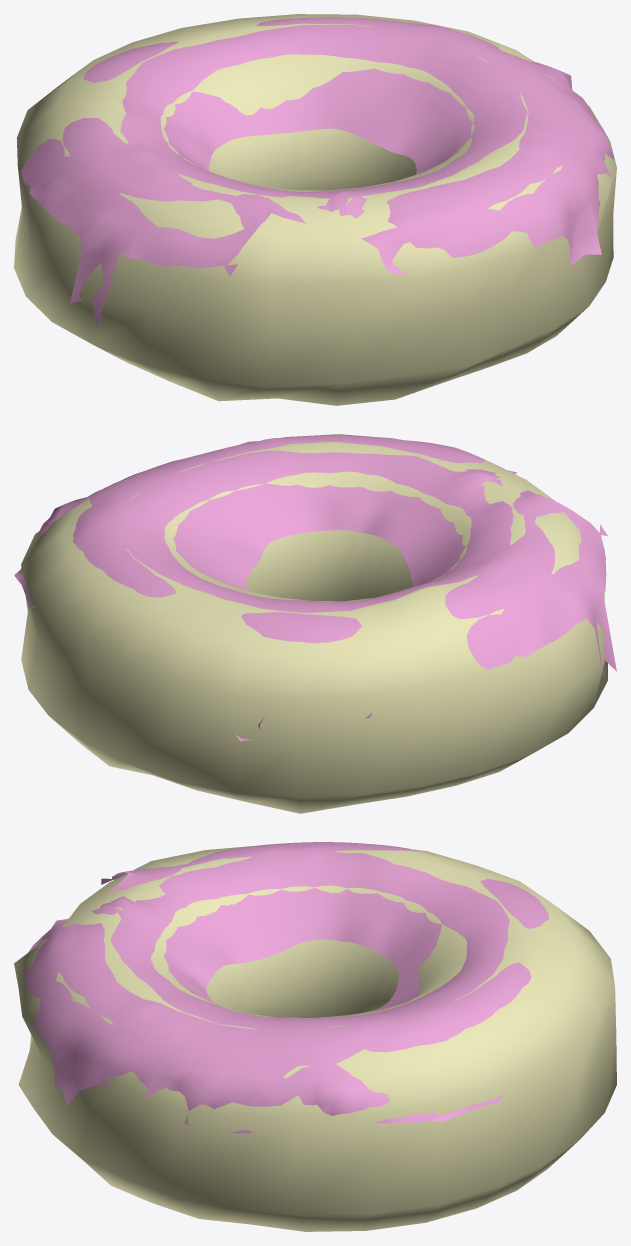
The model's file is donnut.glb.
3 renders of one model, top to bottom at view 1: azimuth 30°, elevation 25°; view 2: azimuth 150°, elevation 25°; view 3: azimuth 270°, elevation 25°, orthographic. The views are drawn at different scales.
Visible parts, largest first — view 1: donut, icing; view 2: donut, icing; view 3: donut, icing.
Boxes of the visible parts, box(x1,y1,x2,y2) form: donut: box(14, 14, 616, 405); icing: box(21, 17, 614, 326); donut: box(21, 434, 607, 813); icing: box(14, 435, 616, 741); donut: box(14, 845, 616, 1231); icing: box(26, 842, 549, 1133).
Size of what is drawn, in the model's own units: 0.1473 by 0.0549 by 0.1452.
